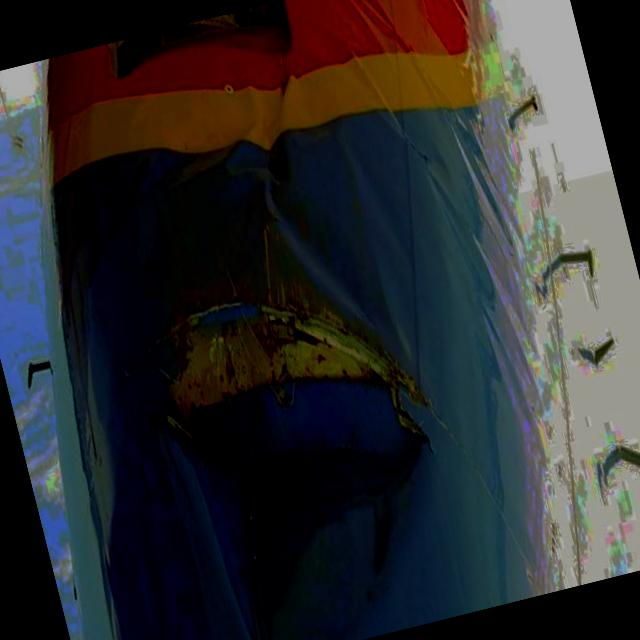crack: (129, 242, 451, 509)
